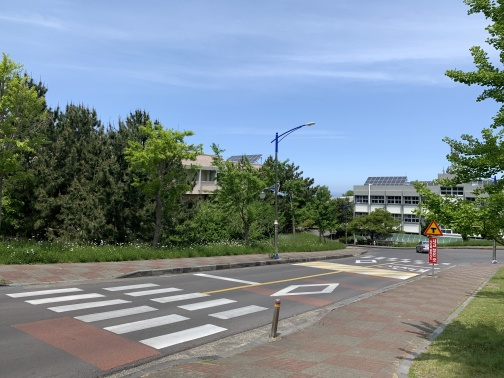College Of Education: (173, 143, 269, 202)
